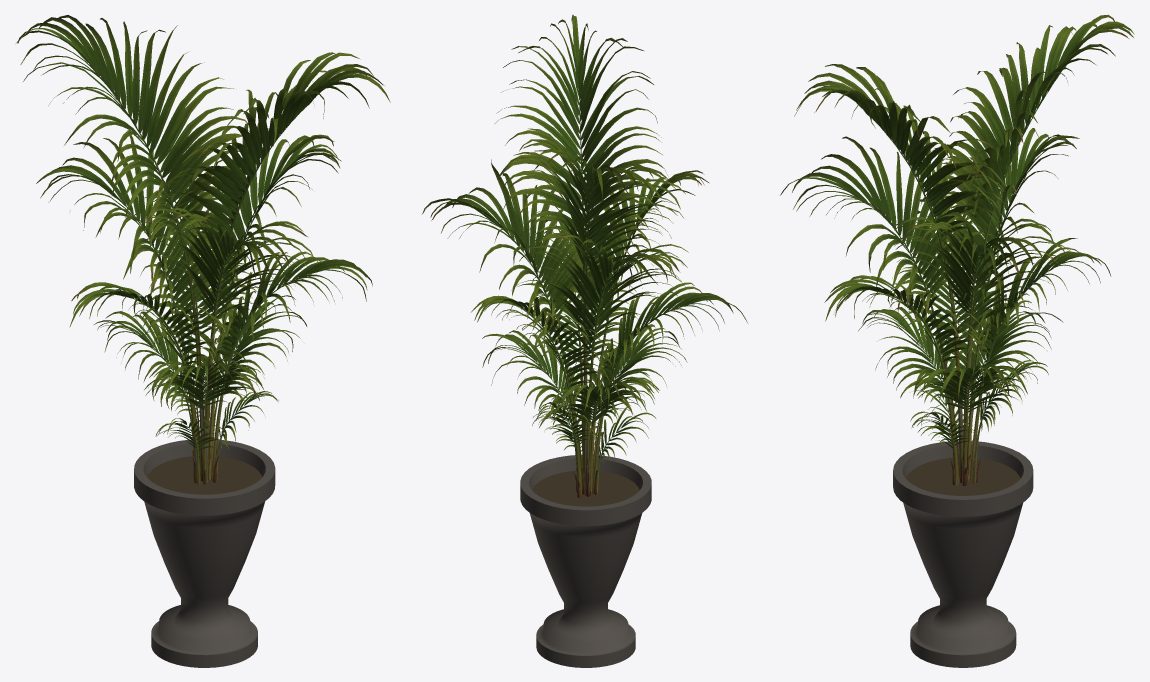
The model's file is potted-palm.glb.
3 renders of one model, left to right at view 1: azimuth 30°, elevation 25°; view 2: azimuth 150°, elevation 25°; view 3: azimuth 270°, elevation 25°, orthographic. The views are drawn at different scales.
Visible parts, largest first — view 1: potted_palm; view 2: potted_palm; view 3: potted_palm.
Part boxes in pixels (<box>): potted_palm: <box>16,15,390,667</box>; potted_palm: <box>421,14,747,667</box>; potted_palm: <box>780,14,1134,667</box>.
Size of the model in its own units: 1.14 by 2.12 by 1.15.
3 materials, 1 textured.
